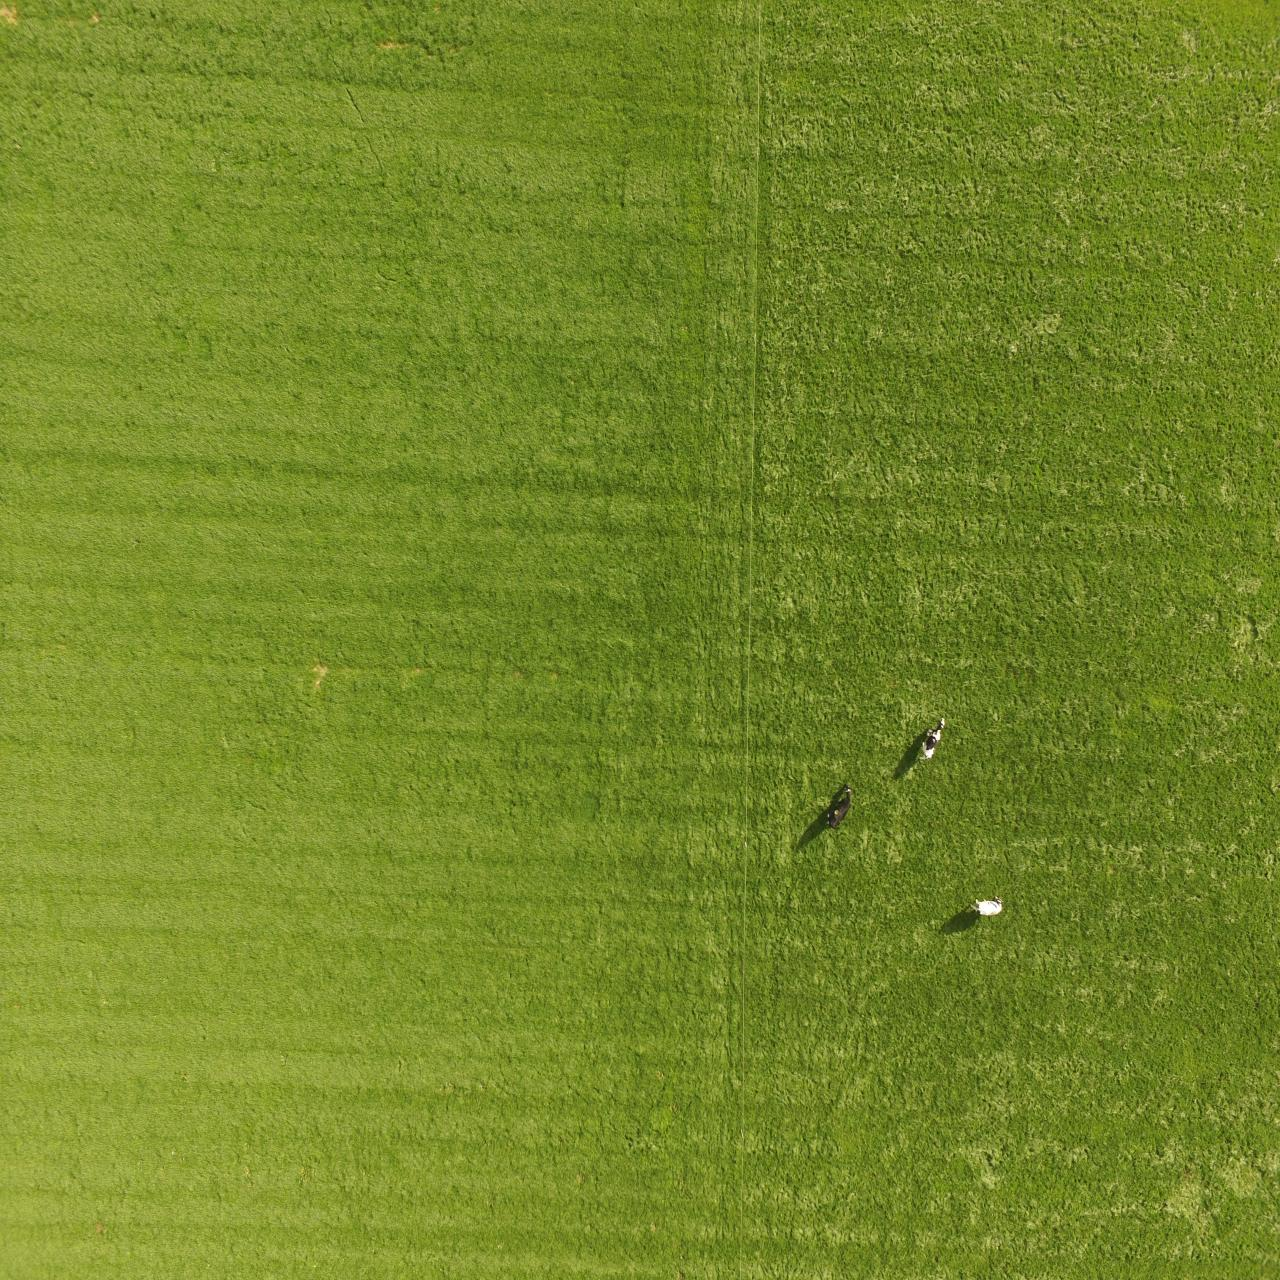cow: (918, 713, 946, 763), (825, 781, 853, 829), (969, 893, 1005, 915)
